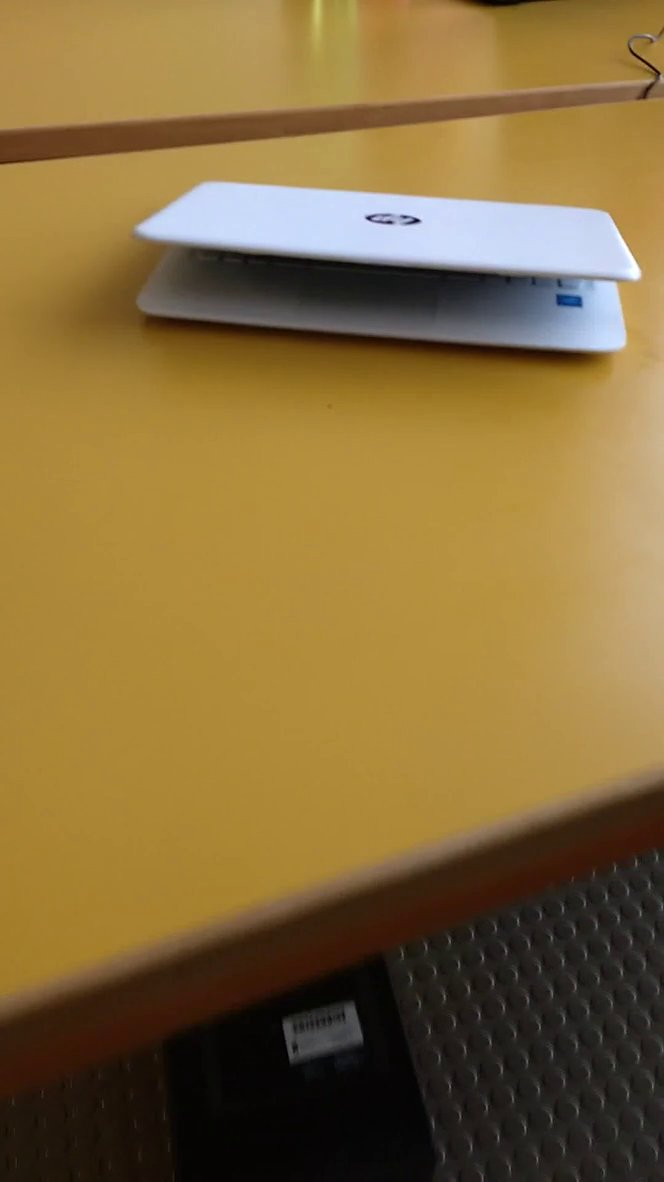laptop: (112, 168, 655, 383)
